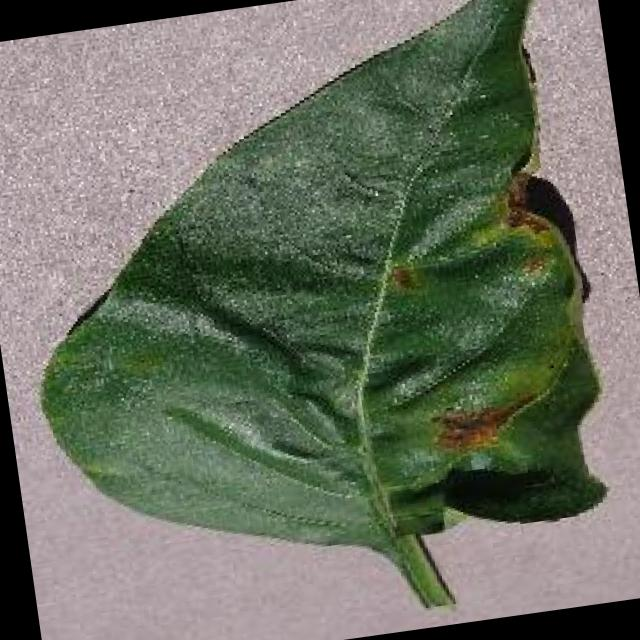Chilli_Bacterial_Spot: (0, 0, 633, 640), (326, 163, 622, 547), (422, 386, 540, 463), (501, 199, 556, 246), (498, 166, 542, 214), (383, 258, 422, 296), (512, 248, 552, 282)
